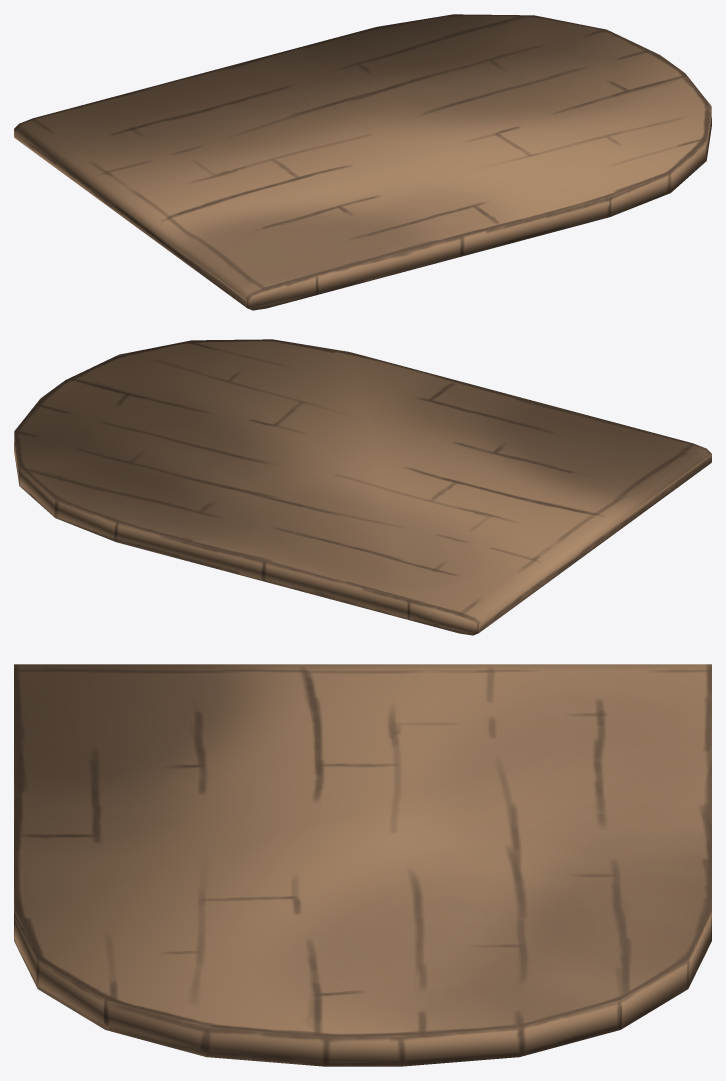
File: drawbridge.fbx
3 views of the same model, one above another, from view 1: azimuth 30°, elevation 25°; view 2: azimuth 150°, elevation 25°; view 3: azimuth 270°, elevation 25° (orthographic). The views are drawn at different scales.
Parts seen in each view (by area): view 1: drawbridge; view 2: drawbridge; view 3: drawbridge.
Boxes of the visible parts, x1=… form: drawbridge: x1=14, y1=14, x2=711, y2=310; drawbridge: x1=14, y1=339, x2=711, y2=635; drawbridge: x1=14, y1=664, x2=711, y2=1066.
Bounding box in the file's own units: 1561 × 86.32 × 1160.
